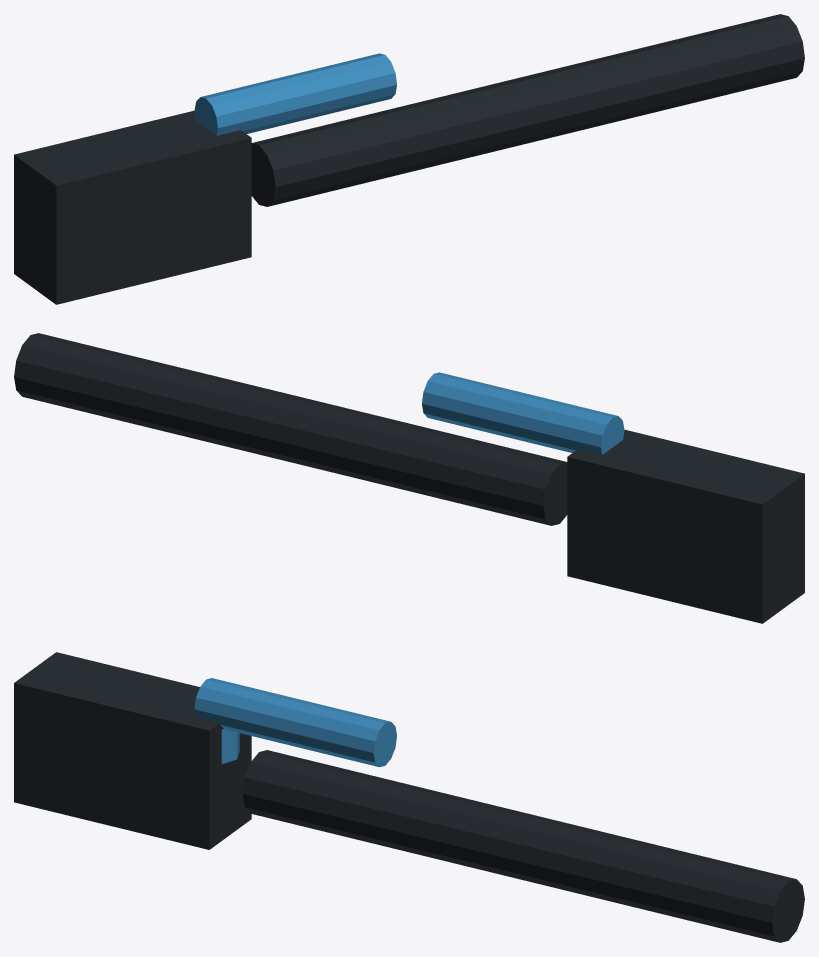
File: sniper_turret.obj
The picture shows the model from 3 angles, top to bottom: view 1: azimuth 30°, elevation 25°; view 2: azimuth 150°, elevation 25°; view 3: azimuth 330°, elevation 25°; orthographic projection.
Visible parts, largest first — view 1: SniperTurret; view 2: SniperTurret; view 3: SniperTurret.
Boxes of the visible parts, <box> form: SniperTurret: <box>14,14,804,304</box>; SniperTurret: <box>14,333,804,623</box>; SniperTurret: <box>14,652,804,942</box>.
Size of the model in its own units: 0.925 by 0.175 by 0.09.
